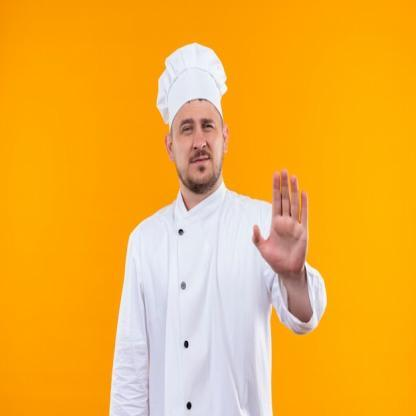stop: (250, 166, 310, 274)
